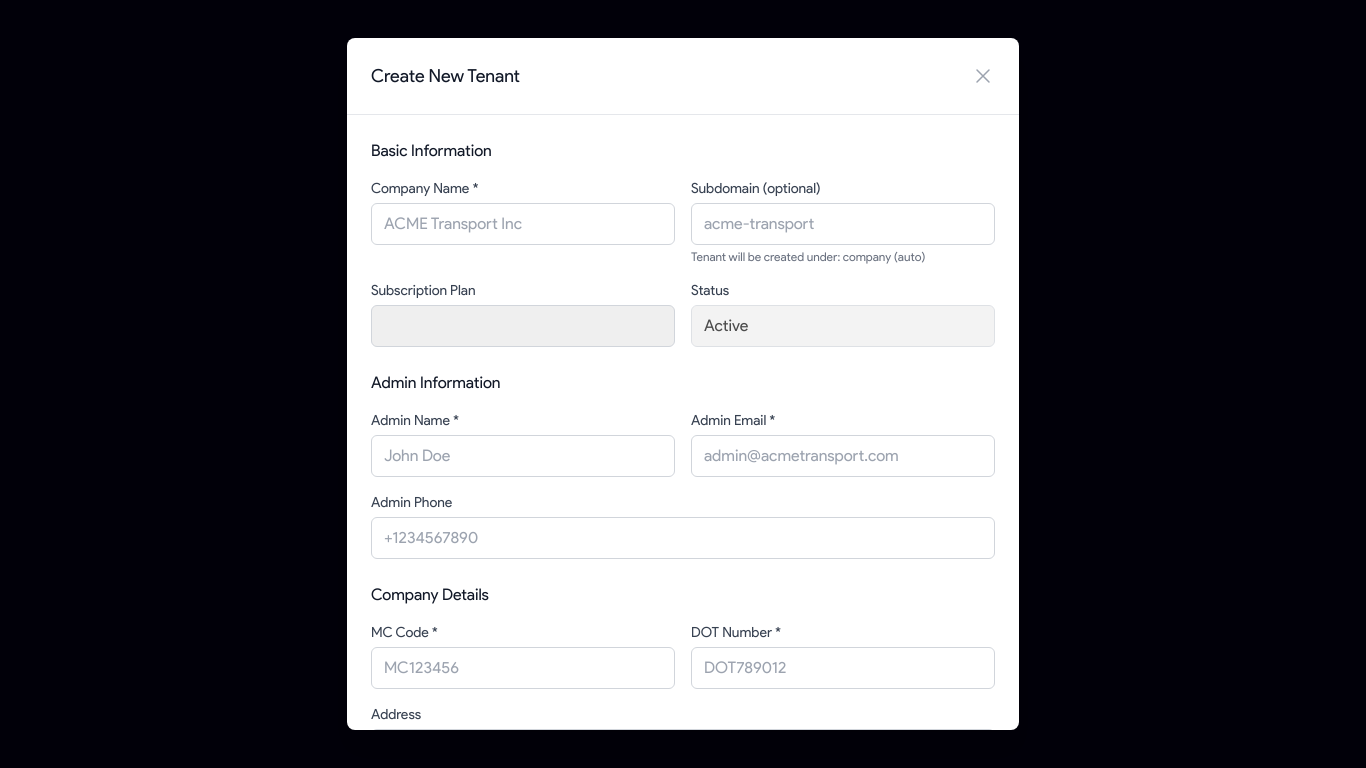
Test: TenantCreateModal › auto-generates subdomain from company name
Expected: the heading "Create New Tenant" is shown, [371,62,520,90]
In the field with placeholder "ACME Transport Inc": (523, 224) [371,203,675,245], type "Test Company LLC"
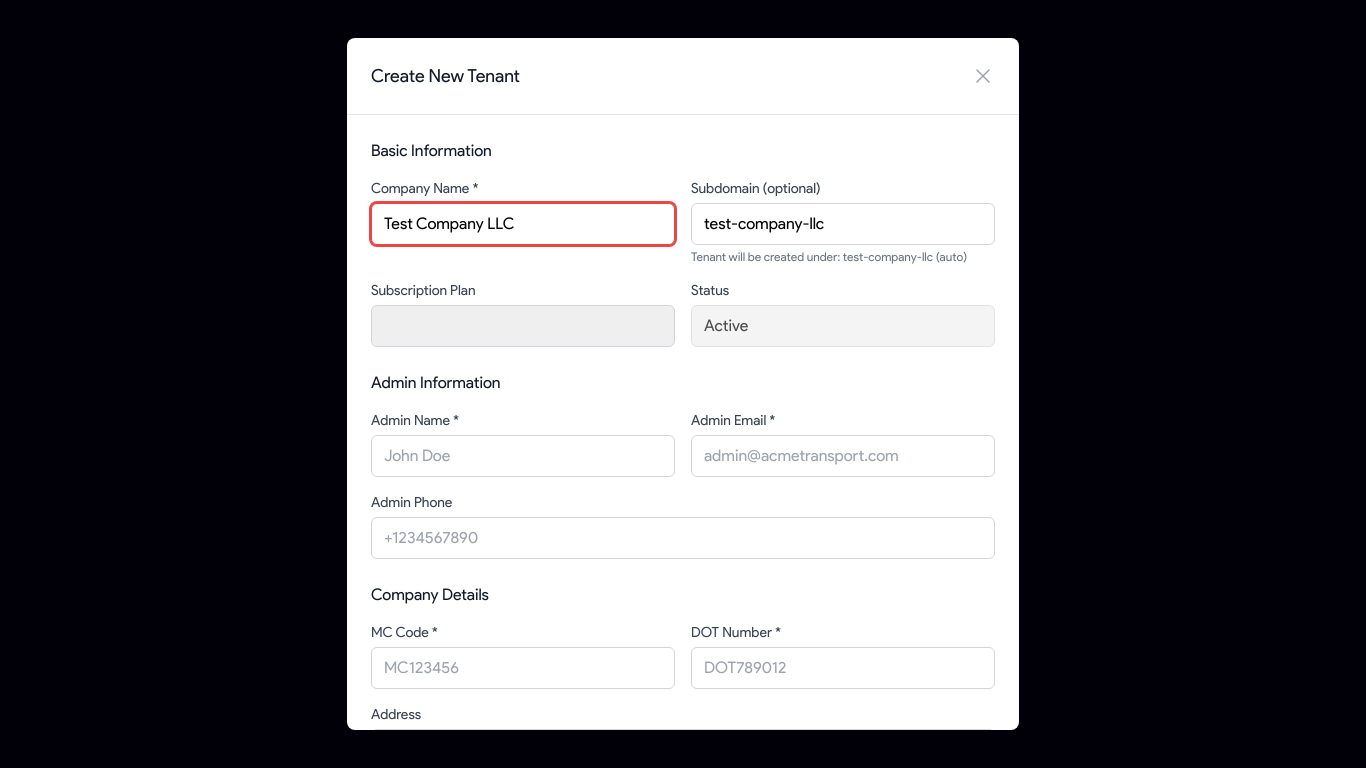
Expected: the field with placeholder "acme-transport" below "Subdomain (optional)" holds "test-company-llc", [691,203,995,245]
